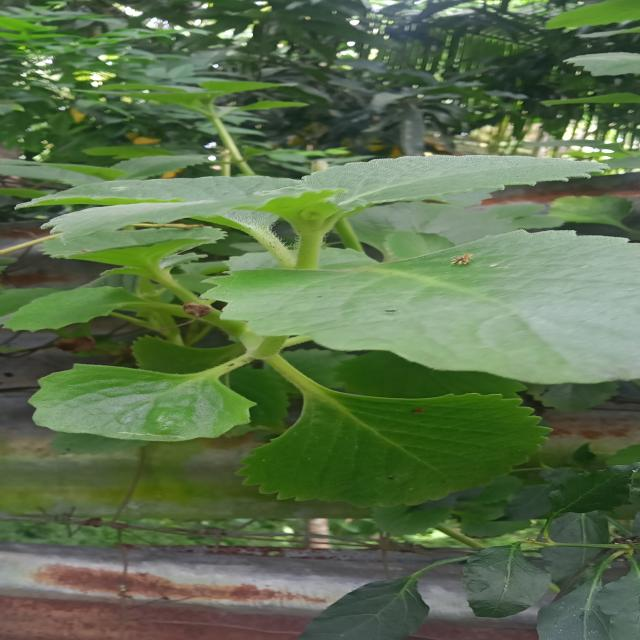Oregano: (1, 139, 640, 363), (8, 370, 606, 532)
